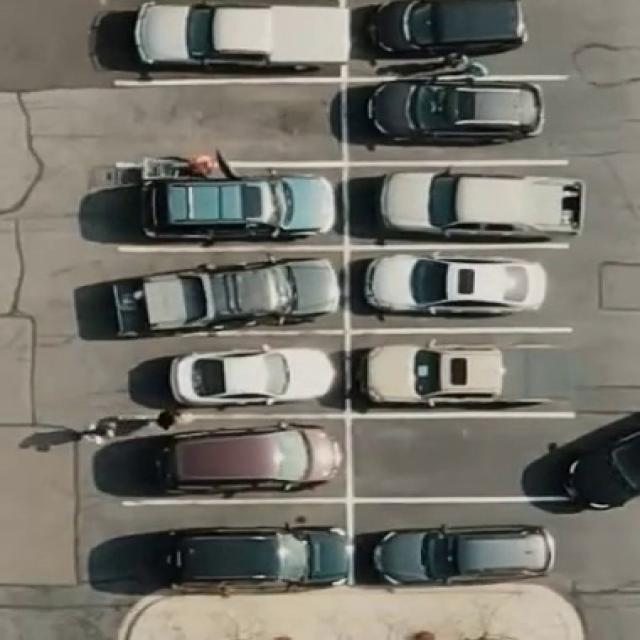empty: (119, 90, 333, 156), (358, 424, 556, 493)
notEmpty: (127, 510, 348, 586), (361, 336, 575, 411), (126, 1, 332, 76), (125, 174, 338, 246), (358, 171, 574, 242), (362, 512, 564, 586), (123, 256, 337, 325), (357, 85, 565, 155), (358, 255, 568, 324), (129, 426, 341, 494), (359, 1, 565, 69), (132, 344, 342, 408)
